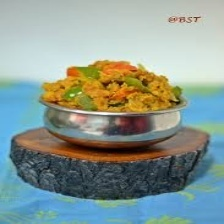sabzi: (38, 49, 186, 115)
